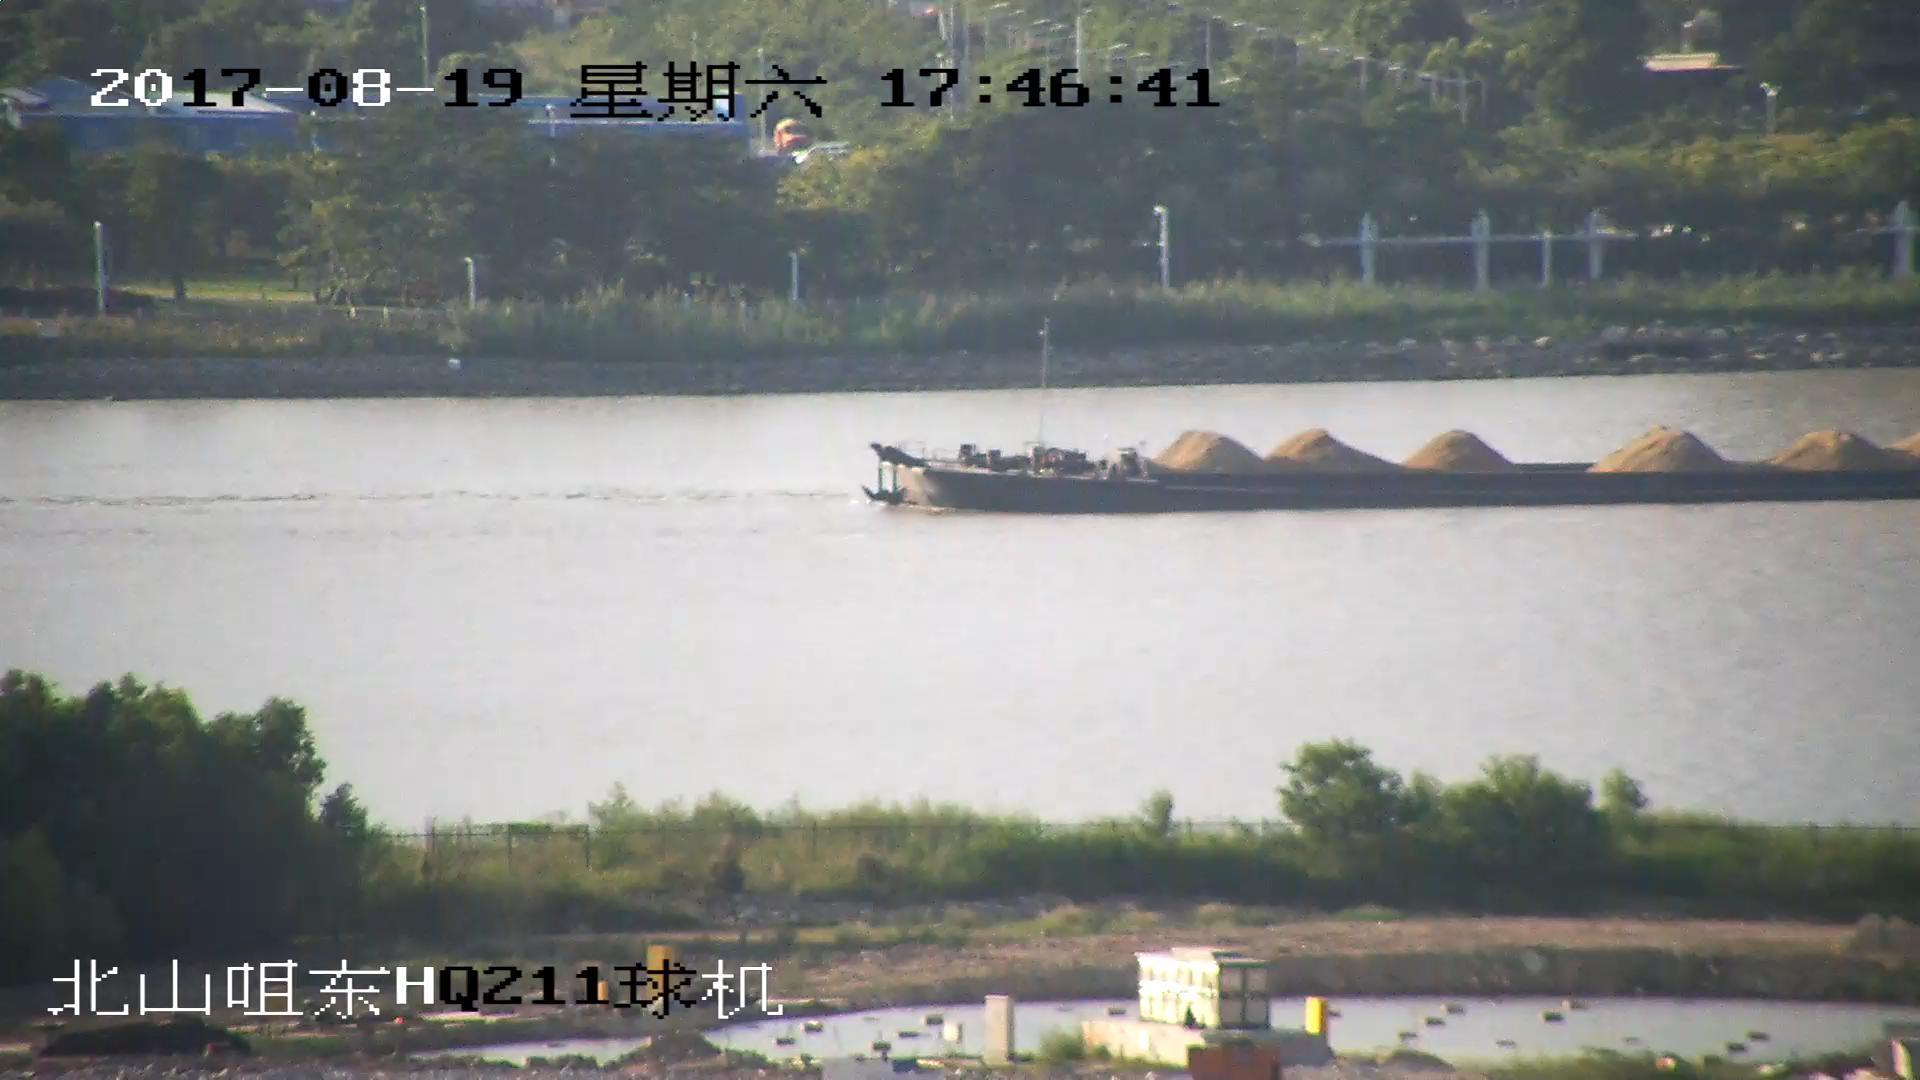Ship: (865, 409, 1920, 526)
